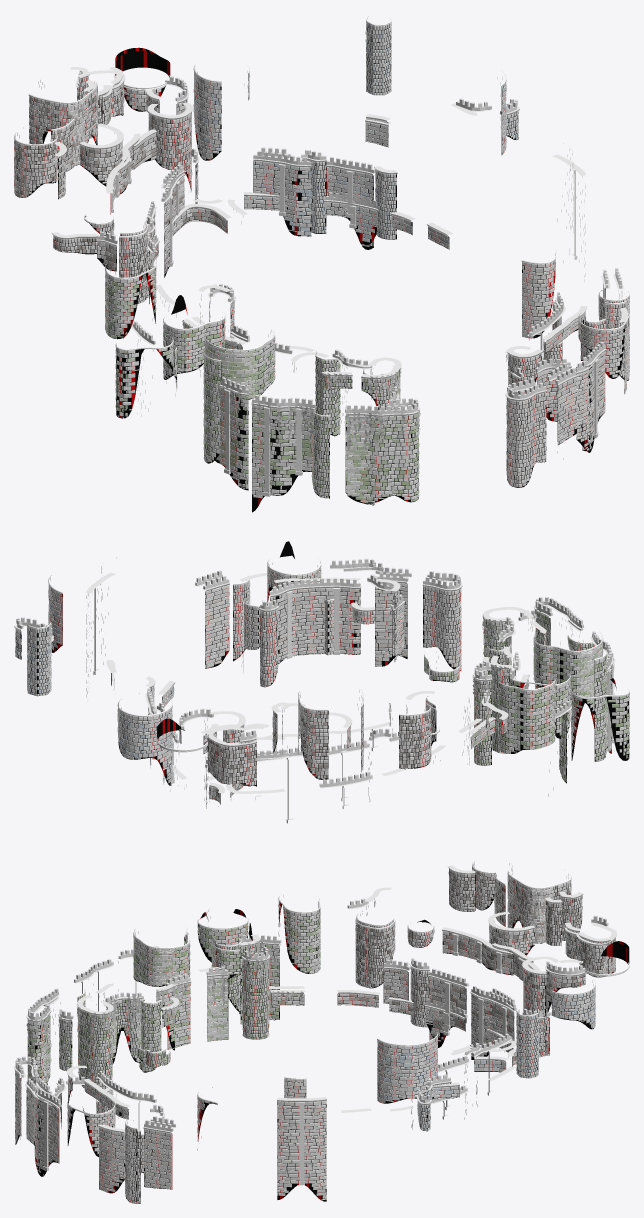
The model's file is SM_Duvar.glb.
3 views of the same model, one above another, from view 1: azimuth 30°, elevation 25°; view 2: azimuth 150°, elevation 25°; view 3: azimuth 270°, elevation 25° (orthographic). The views are drawn at different scales.
Parts seen in each view (by area): view 1: Orman_Blok, Ates_Blok, Hava_Blok, Su_Blok, Orman_Harc, Ates_Harc, Orman_Bezek, Ates_Bezek, Su_Harc, Hava_Harc, Hava_Bezek, Su_Bezek (+1 smaller); view 2: Hava_Blok, Orman_Blok, Ates_Blok, Hava_Harc, Orman_Harc, Su_Blok, Hava_Bezek, Ates_Bezek, Orman_Bezek, Ates_Harc, Su_Harc, Su_Bezek (+1 smaller); view 3: Ates_Blok, Orman_Blok, Hava_Blok, Ates_Harc, Orman_Harc, Ates_Bezek, Su_Blok, Hava_Harc, Orman_Bezek, Hava_Bezek, Su_Harc, Su_Bezek (+1 smaller).
Boxes of the visible parts, box(x1,y1,x2,y2) form: Orman_Blok: box(105, 263, 419, 504); Ates_Blok: box(14, 76, 227, 317); Hava_Blok: box(506, 149, 629, 487); Su_Blok: box(193, 22, 518, 249); Orman_Harc: box(105, 268, 418, 512); Ates_Harc: box(14, 47, 227, 303); Orman_Bezek: box(105, 262, 420, 496); Ates_Bezek: box(14, 67, 231, 304); Su_Harc: box(194, 24, 518, 249); Hava_Harc: box(507, 254, 629, 487); Hava_Bezek: box(505, 143, 629, 438); Su_Bezek: box(193, 16, 519, 236); Hava_Blok: box(86, 561, 461, 696); Orman_Blok: box(424, 610, 629, 796); Ates_Blok: box(179, 690, 507, 808); Hava_Harc: box(205, 541, 460, 687); Orman_Harc: box(425, 616, 629, 783); Su_Blok: box(15, 577, 186, 792); Hava_Bezek: box(85, 557, 462, 674); Ates_Bezek: box(156, 689, 508, 823); Orman_Bezek: box(424, 596, 629, 751); Ates_Harc: box(157, 701, 506, 803); Su_Harc: box(15, 588, 173, 785); Su_Bezek: box(14, 575, 215, 783); Ates_Blok: box(338, 863, 615, 1066); Orman_Blok: box(27, 895, 320, 1089); Hava_Blok: box(15, 1070, 326, 1203); Ates_Harc: box(337, 869, 629, 1066); Orman_Harc: box(28, 901, 320, 1088); Ates_Bezek: box(337, 861, 629, 1056); Su_Blok: box(377, 980, 595, 1130); Hava_Harc: box(15, 1075, 326, 1203); Orman_Bezek: box(26, 896, 320, 1054); Hava_Bezek: box(14, 1056, 326, 1185); Su_Harc: box(378, 990, 594, 1131); Su_Bezek: box(341, 979, 595, 1119).
Bounding box in the file's own units: 87.48 × 38.17 × 101.
